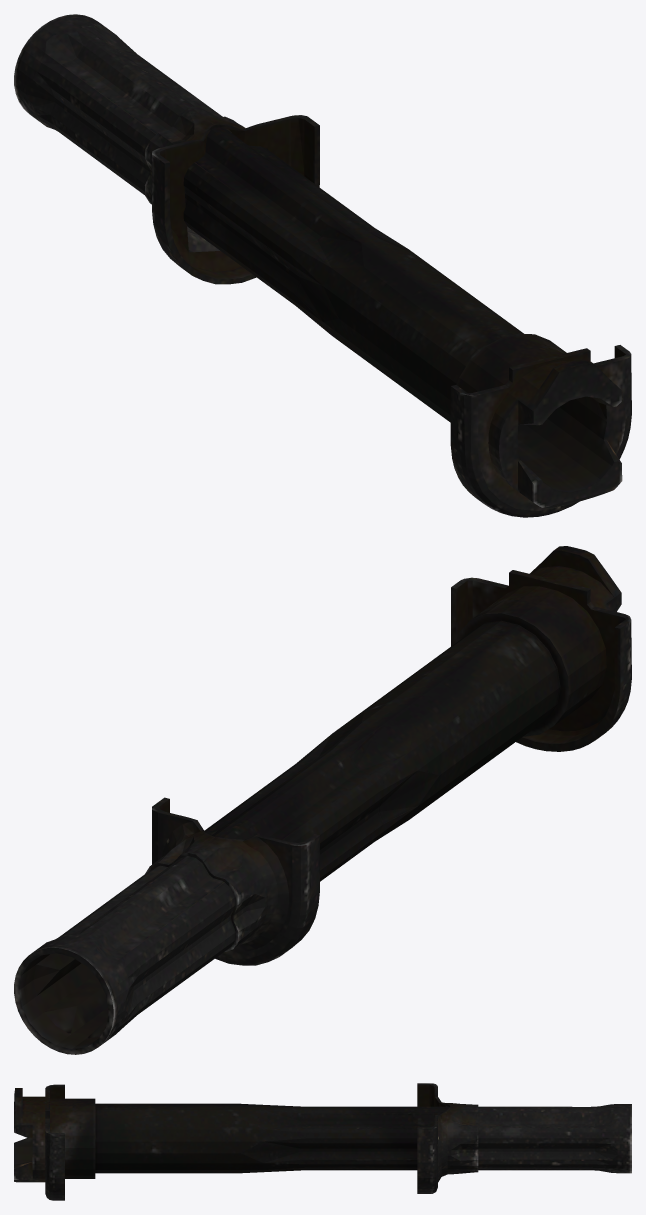
3 views of the same model, one above another, from view 1: azimuth 30°, elevation 25°; view 2: azimuth 150°, elevation 25°; view 3: azimuth 270°, elevation 25° (orthographic). The views are drawn at different scales.
Parts seen in each view (by area): view 1: TW_59e649f986f77411d949b246_PZ_Import; view 2: TW_59e649f986f77411d949b246_PZ_Import; view 3: TW_59e649f986f77411d949b246_PZ_Import.
Part boxes in pixels (x1=…): TW_59e649f986f77411d949b246_PZ_Import: x1=14, y1=14, x2=631, y2=517; TW_59e649f986f77411d949b246_PZ_Import: x1=14, y1=546, x2=631, y2=1054; TW_59e649f986f77411d949b246_PZ_Import: x1=14, y1=1083, x2=631, y2=1200.
Bounding box in the file's own units: 0.0201 × 0.1054 × 0.0193.
Materials: 1 (1 with a texture image).
